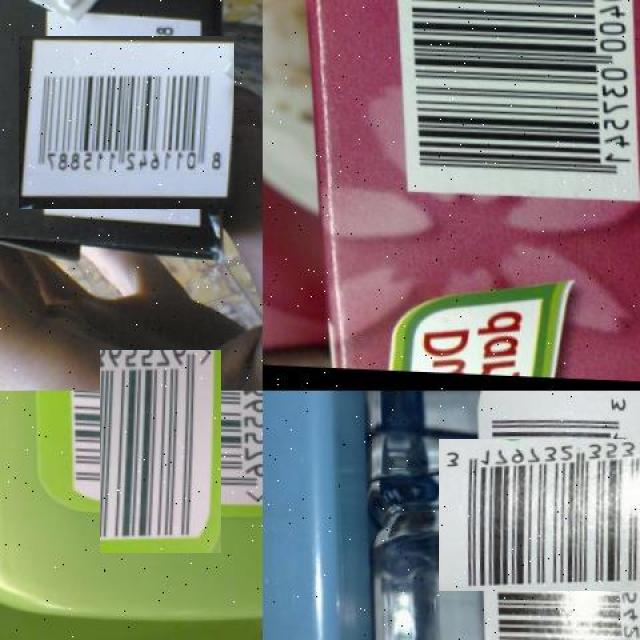Barcode: (399, 0, 640, 202), (29, 25, 224, 219), (463, 415, 640, 616), (79, 370, 242, 533)
